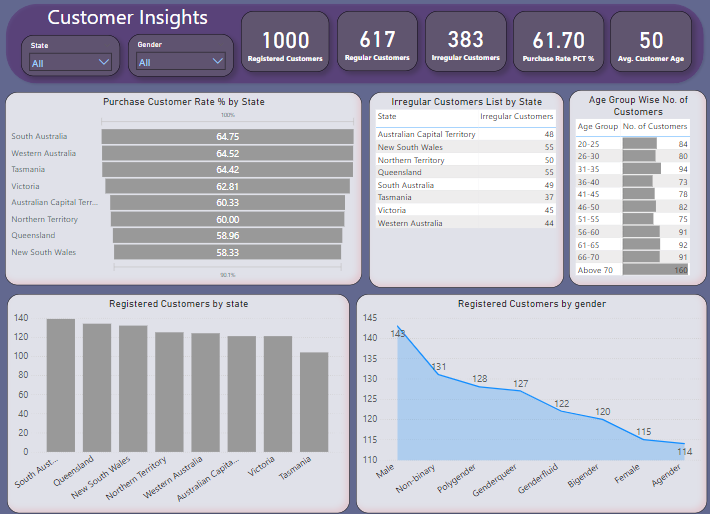

The page's visual inventory and layout, read from the dashboard file:
{"tool":"powerbi","page":{"name":"Customer Insights","canvas":[1700,1250],"ordinal":0},"visuals":[{"type":"shape","box":[6,0,1680,208],"z":0},{"type":"slicer","fields":{"Values":["shirts customers.state"]},"box":[52,84,236,98],"z":1000},{"type":"card","fields":{"Values":["shirts customers.Registered Customers"]},"box":[575,25,210,145],"z":2000},{"type":"card","fields":{"Values":["shirts customers.Purchase Customer Rate"]},"box":[1223.3,25,216.7,145],"z":3000},{"type":"slicer","fields":{"Values":["shirts customers.gender"]},"box":[302,84,252,100],"z":4000},{"type":"clusteredColumnChart","fields":{"Category":["shirts customers.state"],"Y":["shirts customers.Registered Customers"]},"box":[14.3,700,821.4,521.4],"z":5000},{"type":"areaChart","fields":{"Category":["shirts customers.gender"],"Y":["shirts customers.Registered Customers"]},"box":[850,700,836,522],"z":6000},{"type":"tableEx","title":"Age Group Wise No. of Customers","fields":{"Values":["shirts customers.Age Group","shirts customers.Registered Customers"]},"box":[1358.3,208.3,328.3,476.7],"z":7000},{"type":"card","fields":{"Values":["shirts orders.Regular Customers"]},"box":[805,25,191.7,143.3],"z":8000},{"type":"card","fields":{"Values":["shirts orders.Irregular Customers"]},"box":[1014.7,25.7,194,144],"z":9000},{"type":"textbox","box":[22,0,570,80],"z":10000},{"type":"tableEx","title":"NO. of Irregular Customers  by State","fields":{"Values":["shirts customers.state","shirts orders.Irregular Customers"]},"box":[880,208.3,463.3,475],"z":11000},{"type":"funnel","title":"Purchase Customer Rate % by State","fields":{"Category":["shirts customers.state"],"Y":["shirts customers.Purchase Customer Rate"]},"box":[15,208.3,850,470],"z":12000},{"type":"card","fields":{"Values":["shirts customers.Avg. Customer Age"]},"box":[1455,25,195,145],"z":13000}]}

Visuals, with their boxes in screenshot pixels (x1, y1, x2, y2), scaled from the page's 1700x1250 canvas onto the 710x514 screenshot:
shape: l=3, t=0, r=704, b=86
slicer - shirts customers.state: l=22, t=35, r=120, b=75
card - shirts customers.Registered Customers: l=240, t=10, r=328, b=70
card - shirts customers.Purchase Customer Rate: l=511, t=10, r=601, b=70
slicer - shirts customers.gender: l=126, t=35, r=231, b=76
clusteredColumnChart - shirts customers.state x shirts customers.Registered Customers: l=6, t=288, r=349, b=502
areaChart - shirts customers.gender x shirts customers.Registered Customers: l=355, t=288, r=704, b=502
"Age Group Wise No. of Customers" tableEx: l=567, t=86, r=704, b=282
card - shirts orders.Regular Customers: l=336, t=10, r=416, b=69
card - shirts orders.Irregular Customers: l=424, t=11, r=505, b=70
textbox: l=9, t=0, r=247, b=33
"NO. of Irregular Customers  by State" tableEx: l=368, t=86, r=561, b=281
"Purchase Customer Rate % by State" funnel: l=6, t=86, r=361, b=279
card - shirts customers.Avg. Customer Age: l=608, t=10, r=689, b=70
